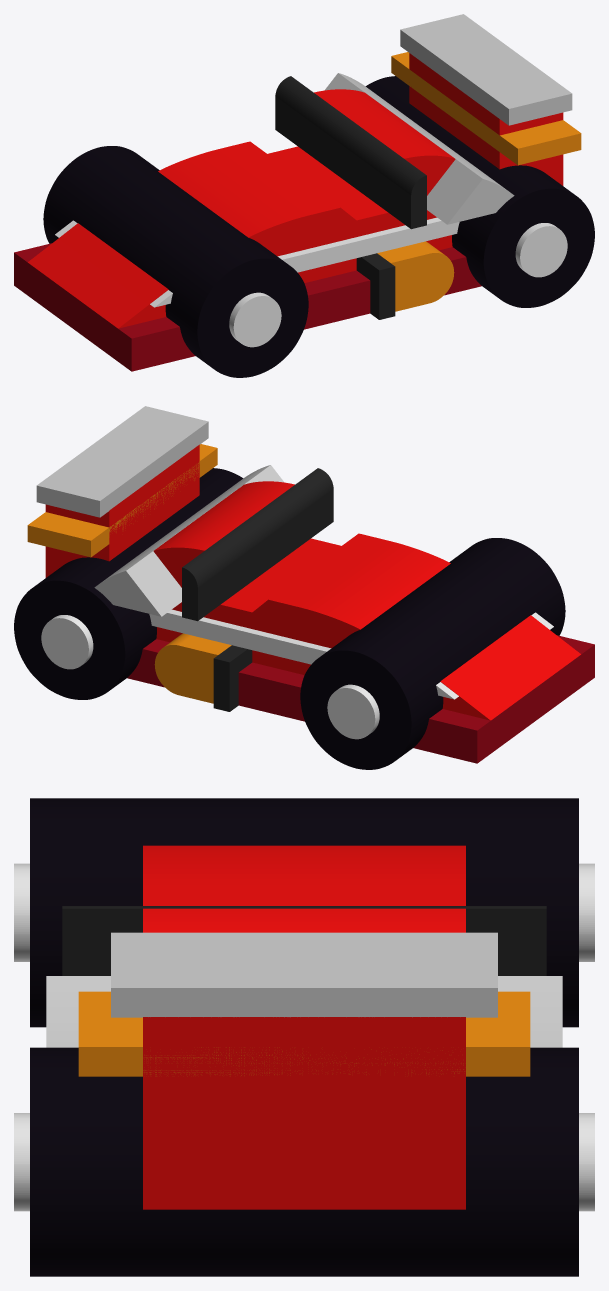
The picture shows the model from 3 angles, top to bottom: view 1: azimuth 30°, elevation 25°; view 2: azimuth 150°, elevation 25°; view 3: azimuth 270°, elevation 25°; orthographic projection. The views are drawn at different scales.
Parts seen in each view (by area): view 1: U+1F3CE_layer07_obj00, U+1F3CE_layer00_obj00, U+1F3CE_layer05_obj00, U+1F3CE_layer03_obj00, U+1F3CE_layer02_obj00, U+1F3CE_layer04_obj00, U+1F3CE_layer06_obj00, U+1F3CE_layer08_obj00, U+1F3CE_layer01_obj00; view 2: U+1F3CE_layer07_obj00, U+1F3CE_layer00_obj00, U+1F3CE_layer05_obj00, U+1F3CE_layer03_obj00, U+1F3CE_layer02_obj00, U+1F3CE_layer04_obj00, U+1F3CE_layer06_obj00, U+1F3CE_layer08_obj00, U+1F3CE_layer01_obj00; view 3: U+1F3CE_layer07_obj00, U+1F3CE_layer00_obj00, U+1F3CE_layer02_obj00, U+1F3CE_layer04_obj00, U+1F3CE_layer05_obj00, U+1F3CE_layer08_obj00, U+1F3CE_layer06_obj00.
Part boxes in pixels (x1=…): U+1F3CE_layer07_obj00: x1=43, y1=76, x2=594, y2=377; U+1F3CE_layer00_obj00: x1=28, y1=53, x2=563, y2=328; U+1F3CE_layer05_obj00: x1=275, y1=76, x2=426, y2=319; U+1F3CE_layer03_obj00: x1=14, y1=243, x2=481, y2=371; U+1F3CE_layer02_obj00: x1=400, y1=14, x2=572, y2=125; U+1F3CE_layer04_obj00: x1=377, y1=52, x2=581, y2=311; U+1F3CE_layer06_obj00: x1=324, y1=73, x2=514, y2=224; U+1F3CE_layer08_obj00: x1=229, y1=223, x2=567, y2=347; U+1F3CE_layer01_obj00: x1=55, y1=217, x2=459, y2=307; U+1F3CE_layer07_obj00: x1=14, y1=468, x2=565, y2=769; U+1F3CE_layer00_obj00: x1=45, y1=444, x2=580, y2=720; U+1F3CE_layer05_obj00: x1=182, y1=468, x2=333, y2=711; U+1F3CE_layer03_obj00: x1=127, y1=635, x2=594, y2=763; U+1F3CE_layer02_obj00: x1=36, y1=406, x2=208, y2=517; U+1F3CE_layer04_obj00: x1=27, y1=444, x2=231, y2=703; U+1F3CE_layer06_obj00: x1=94, y1=465, x2=284, y2=616; U+1F3CE_layer08_obj00: x1=41, y1=615, x2=379, y2=739; U+1F3CE_layer01_obj00: x1=149, y1=609, x2=553, y2=699; U+1F3CE_layer07_obj00: x1=30, y1=798, x2=578, y2=1276; U+1F3CE_layer00_obj00: x1=143, y1=845, x2=465, y2=1209; U+1F3CE_layer02_obj00: x1=111, y1=932, x2=497, y2=1017; U+1F3CE_layer04_obj00: x1=78, y1=991, x2=530, y2=1076; U+1F3CE_layer05_obj00: x1=62, y1=906, x2=546, y2=975; U+1F3CE_layer08_obj00: x1=14, y1=863, x2=594, y2=1211; U+1F3CE_layer06_obj00: x1=46, y1=976, x2=562, y2=1047.
Bounding box in the file's own units: 0.5678 × 0.2229 × 0.36.
